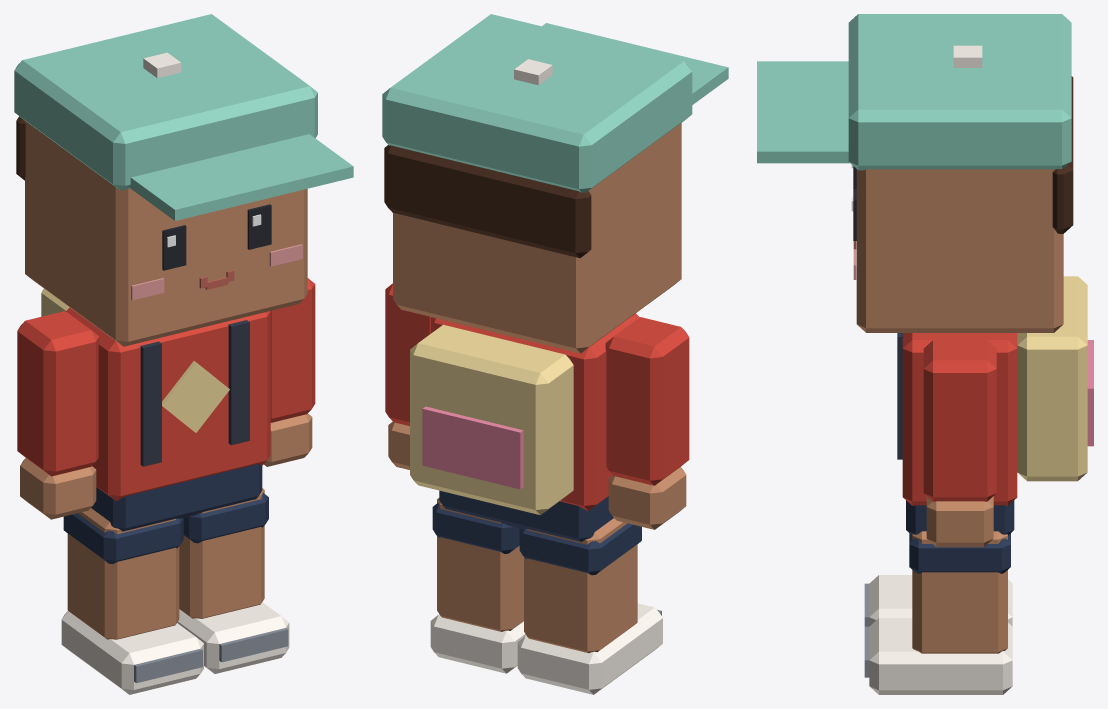
File: CatCafe_NPC_Customer_B.glb
3 views of the same model, side by side, from view 1: azimuth 30°, elevation 25°; view 2: azimuth 150°, elevation 25°; view 3: azimuth 270°, elevation 25° (orthographic). The views are drawn at different scales.
Parts seen in each view (by area): view 1: CatCafe_NPC_Customer_B; view 2: CatCafe_NPC_Customer_B; view 3: CatCafe_NPC_Customer_B.
Boxes of the visible parts, x1=… form: CatCafe_NPC_Customer_B: x1=14, y1=14, x2=353, y2=694; CatCafe_NPC_Customer_B: x1=382, y1=14, x2=728, y2=694; CatCafe_NPC_Customer_B: x1=757, y1=14, x2=1093, y2=694.
Size of the model in its own units: 2.04 by 4.19 by 2.11.
Materials: 1 (1 with a texture image).
